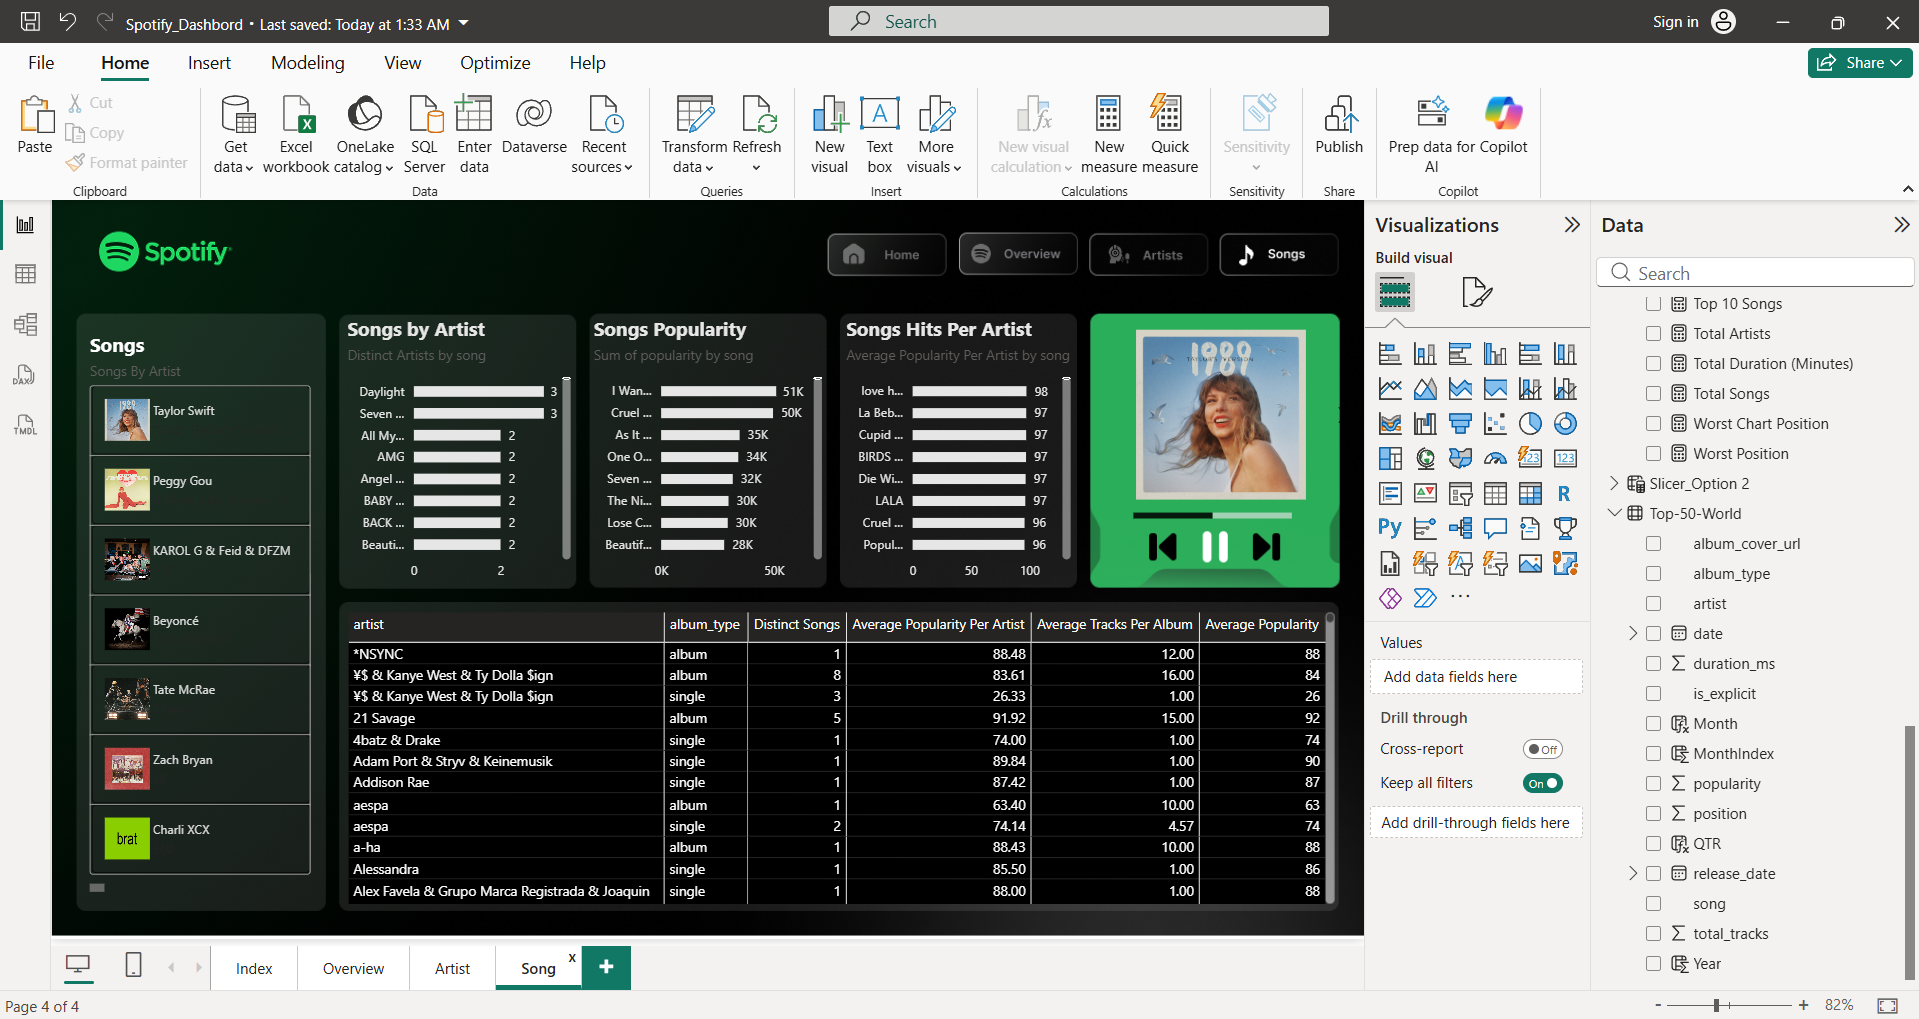

The page's visual inventory and layout, read from the dashboard file:
{"tool":"powerbi","page":{"name":"Song","canvas":[1280,720],"ordinal":3},"visuals":[{"type":"actionButton","box":[756.8,34.6,115.7,40.2],"z":0},{"type":"actionButton","box":[883.6,34.6,115.7,40.2],"z":1000},{"type":"actionButton","box":[1011.5,34.6,115.7,40.2],"z":2000},{"type":"actionButton","box":[1138.2,34.6,115.7,40.2],"z":3000},{"type":"shape","box":[1035.6,91.6,194.9,287.5],"z":4000},{"type":"clusteredBarChart","title":"Songs by Artist","fields":{"Category":["Top-50-World.song"],"Y":["_Measures.Distinct Artists"]},"box":[283.9,112.1,227.8,266.8],"z":5000},{"type":"clusteredBarChart","title":"Songs Popularity","fields":{"Category":["Top-50-World.song"],"Y":["Sum(Top-50-World.popularity)"]},"box":[523.9,112.1,232.7,266.8],"z":6000},{"type":"clusteredBarChart","title":"Songs Hits Per Artist","fields":{"Category":["Top-50-World.song"],"Y":["_Measures.Average Popularity Per Artist"]},"box":[770,112.1,229.1,266.8],"z":7000},{"type":"advancedSlicerVisual","title":"Songs","fields":{"Values":["Top-50-World.song"]},"box":[32.9,127.9,225.4,554.4],"z":8000},{"type":"tableEx","fields":{"Values":["Top-50-World.artist","Top-50-World.album_type","_Measures.Distinct Songs","_Measures.Average Popularity Per Artist","_Measures.Average Tracks Per Album","_Measures.Average Popularity"]},"box":[283.9,397.2,972.3,293.6],"z":9000},{"type":"advancedSlicerVisual","title":"Songs","fields":{"Values":["Top-50-World.song"]},"box":[1005.9,107.2,268,204.7],"z":10000},{"type":"hundredPercentStackedBarChart","fields":{"Y":["_Measures.Average Popularity","Avg(Top-50-World.popularity)"]},"box":[1049.7,269.3,164.5,70.7],"z":11000},{"type":"image","box":[1164.8,323.4,40,30],"z":12000},{"type":"image","box":[1063.6,323.4,40,30],"z":13000},{"type":"image","box":[1114.2,323.4,40,30],"z":14000},{"type":"shape","box":[1029,97.5,230.3,287.5],"z":15000}]}

Visuals, with their boxes on the page's 1280x720 design canvas (x1, y1, x2, y2). These are canvas units, not pixel positions in the 1919x1019 screenshot, which may show the page scaled, cropped or inside an application window:
actionButton: {"left": 757, "top": 35, "right": 872, "bottom": 75}
actionButton: {"left": 884, "top": 35, "right": 999, "bottom": 75}
actionButton: {"left": 1012, "top": 35, "right": 1127, "bottom": 75}
actionButton: {"left": 1138, "top": 35, "right": 1254, "bottom": 75}
shape: {"left": 1036, "top": 92, "right": 1230, "bottom": 379}
"Songs by Artist" clusteredBarChart: {"left": 284, "top": 112, "right": 512, "bottom": 379}
"Songs Popularity" clusteredBarChart: {"left": 524, "top": 112, "right": 757, "bottom": 379}
"Songs Hits Per Artist" clusteredBarChart: {"left": 770, "top": 112, "right": 999, "bottom": 379}
"Songs" advancedSlicerVisual: {"left": 33, "top": 128, "right": 258, "bottom": 682}
tableEx - Top-50-World.artist x Top-50-World.album_type: {"left": 284, "top": 397, "right": 1256, "bottom": 691}
"Songs" advancedSlicerVisual: {"left": 1006, "top": 107, "right": 1274, "bottom": 312}
hundredPercentStackedBarChart - _Measures.Average Popularity x Avg(Top-50-World.popularity): {"left": 1050, "top": 269, "right": 1214, "bottom": 340}
image: {"left": 1165, "top": 323, "right": 1205, "bottom": 353}
image: {"left": 1064, "top": 323, "right": 1104, "bottom": 353}
image: {"left": 1114, "top": 323, "right": 1154, "bottom": 353}
shape: {"left": 1029, "top": 98, "right": 1259, "bottom": 385}
